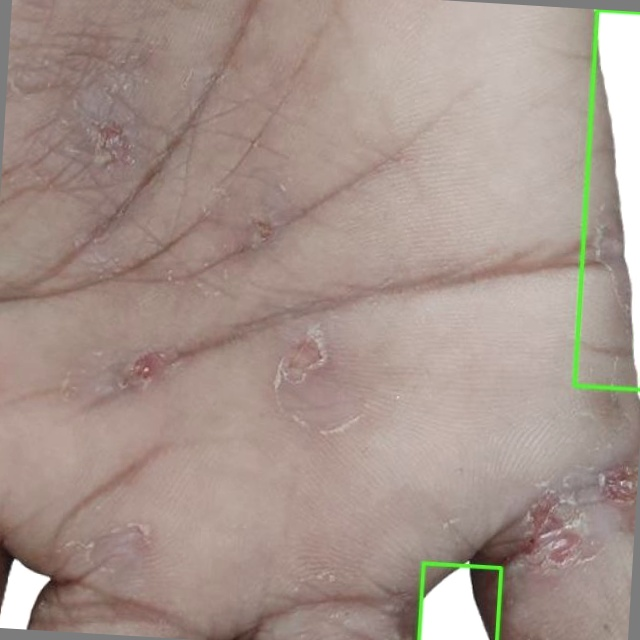Scabies: (575, 10, 639, 389), (419, 563, 501, 639)
